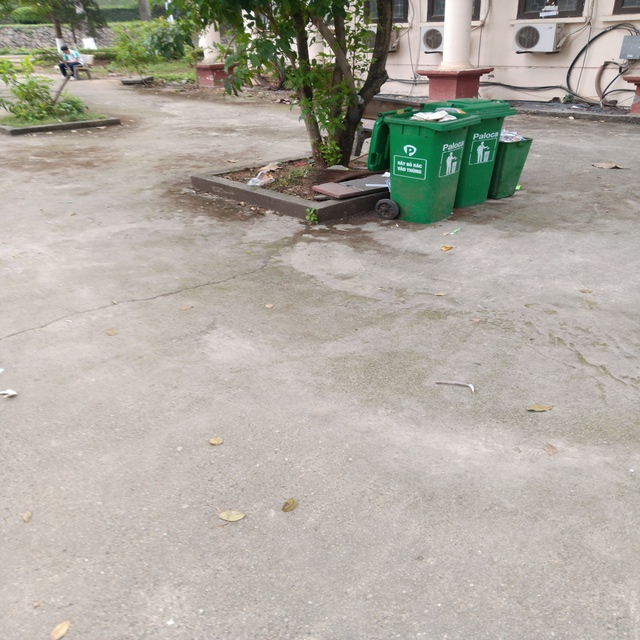thungrac: (391, 113, 459, 225), (443, 99, 503, 208), (493, 129, 532, 202)
